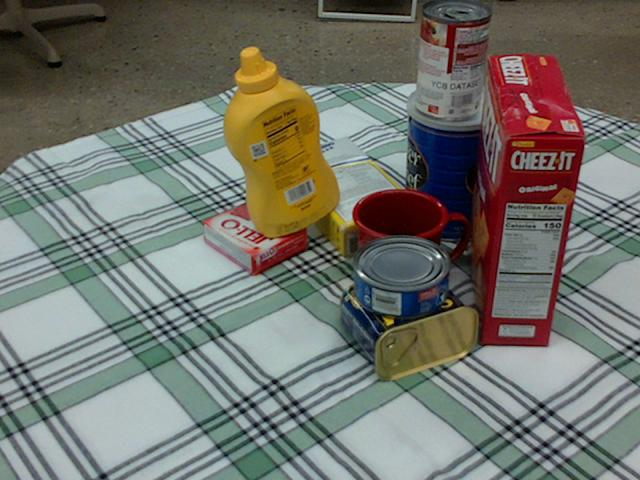cracker_box: (465, 55, 588, 345)
gelatin_box: (203, 199, 308, 277)
master_chef_can: (402, 81, 507, 241)
mug: (353, 189, 469, 303)
mustard_bottle: (223, 47, 339, 237)
potted_meat_can: (343, 259, 482, 377)
sugar_box: (276, 135, 418, 257)
tomato_soup_can: (415, 0, 491, 120)
tuna_fish_can: (353, 235, 451, 318)
